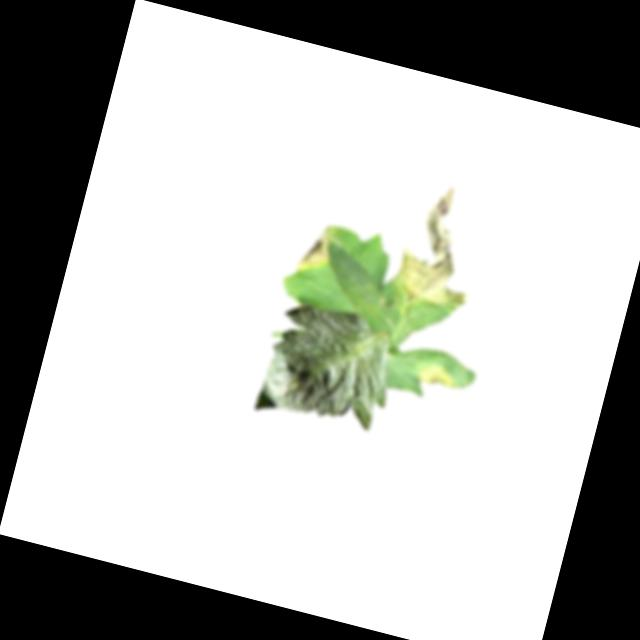Late_blight: (390, 176, 496, 315), (294, 219, 342, 277), (412, 356, 461, 397)
